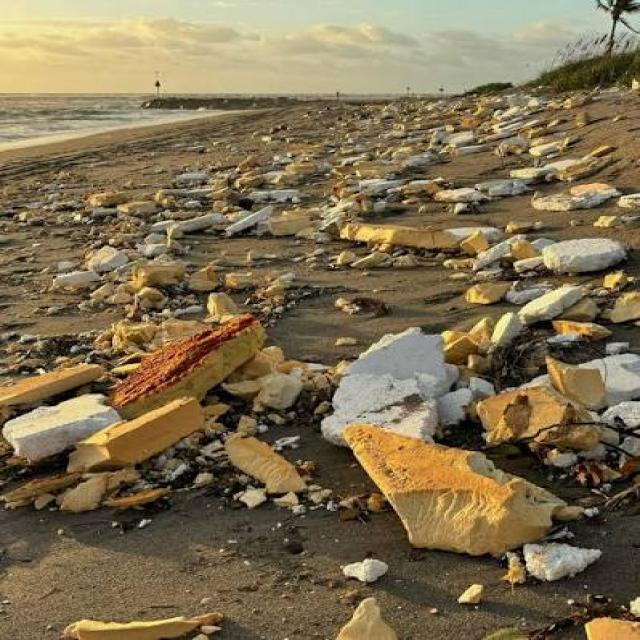styrofoam: (317, 315, 496, 466), (52, 211, 286, 281), (473, 228, 640, 296), (0, 402, 154, 462), (557, 354, 640, 457), (473, 541, 625, 587), (276, 259, 280, 259)
